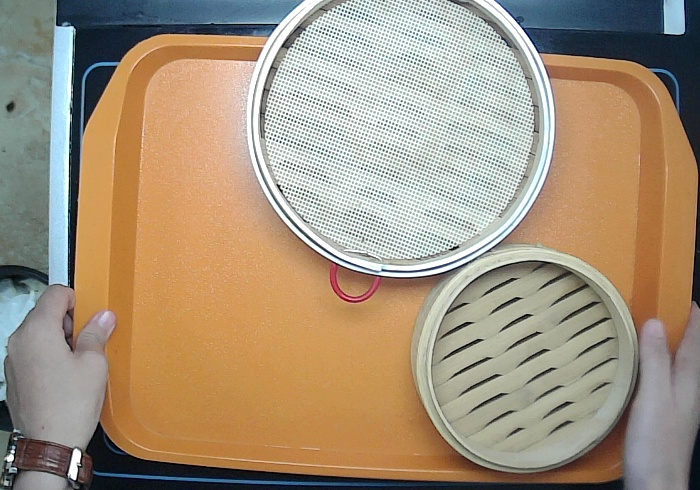ZNLD-Da_Zheng_Long: (244, 1, 560, 306)
ZNLD-Xiao_Zheng_Long: (405, 239, 644, 482)
